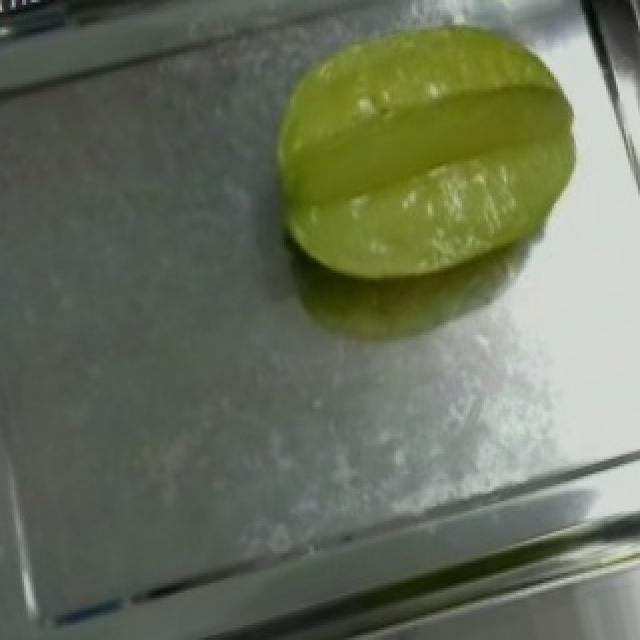fruit: (228, 0, 626, 332)
